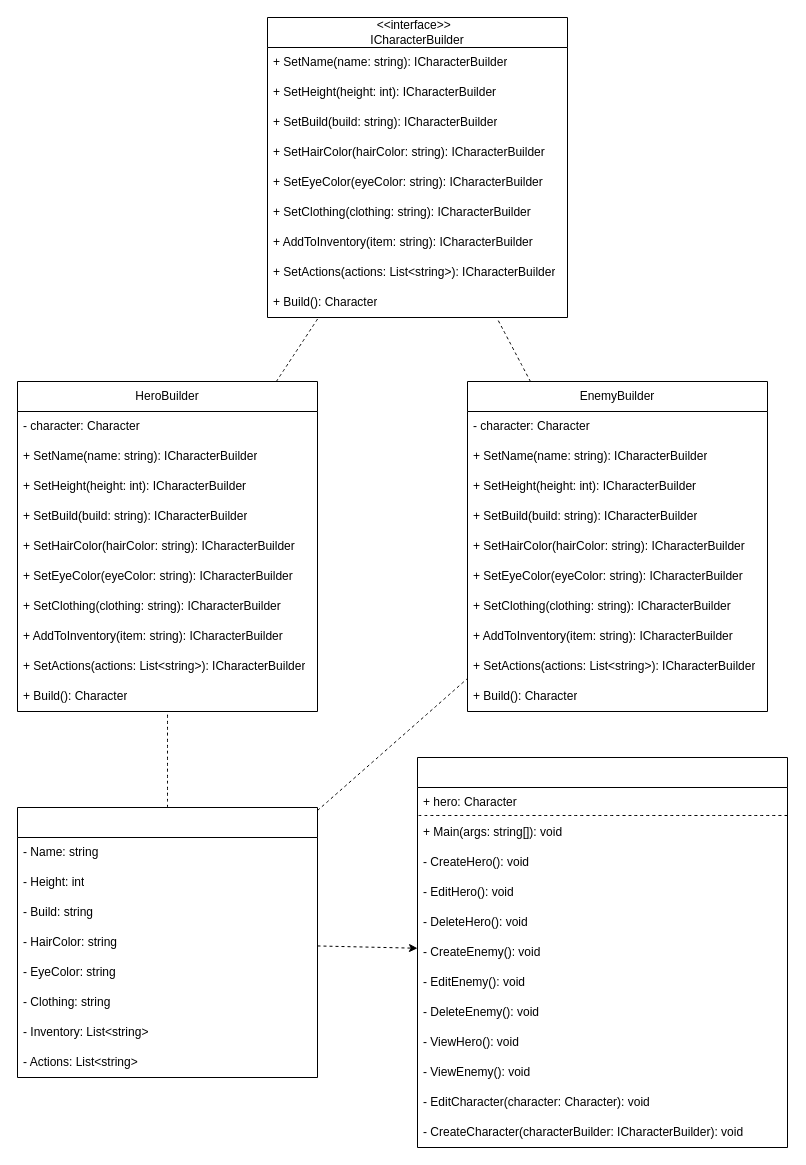
The diagram is 806 pixels wide and 1165 high, and some of its shapes have lost their labels. Each missing label, with the box of its shape:
Character: (16, 806, 318, 1078)
Program: (416, 756, 788, 1148)
